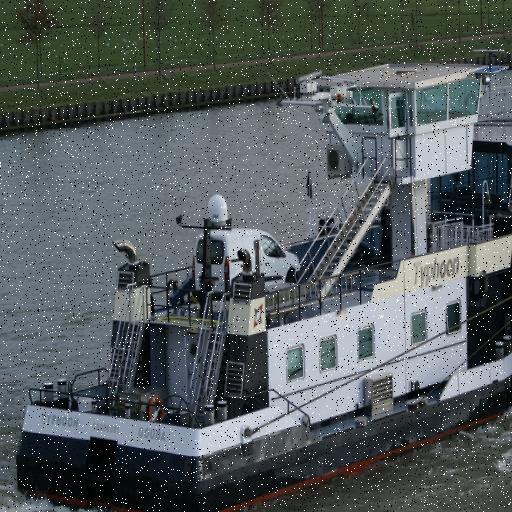tugboat: (12, 45, 512, 512)
